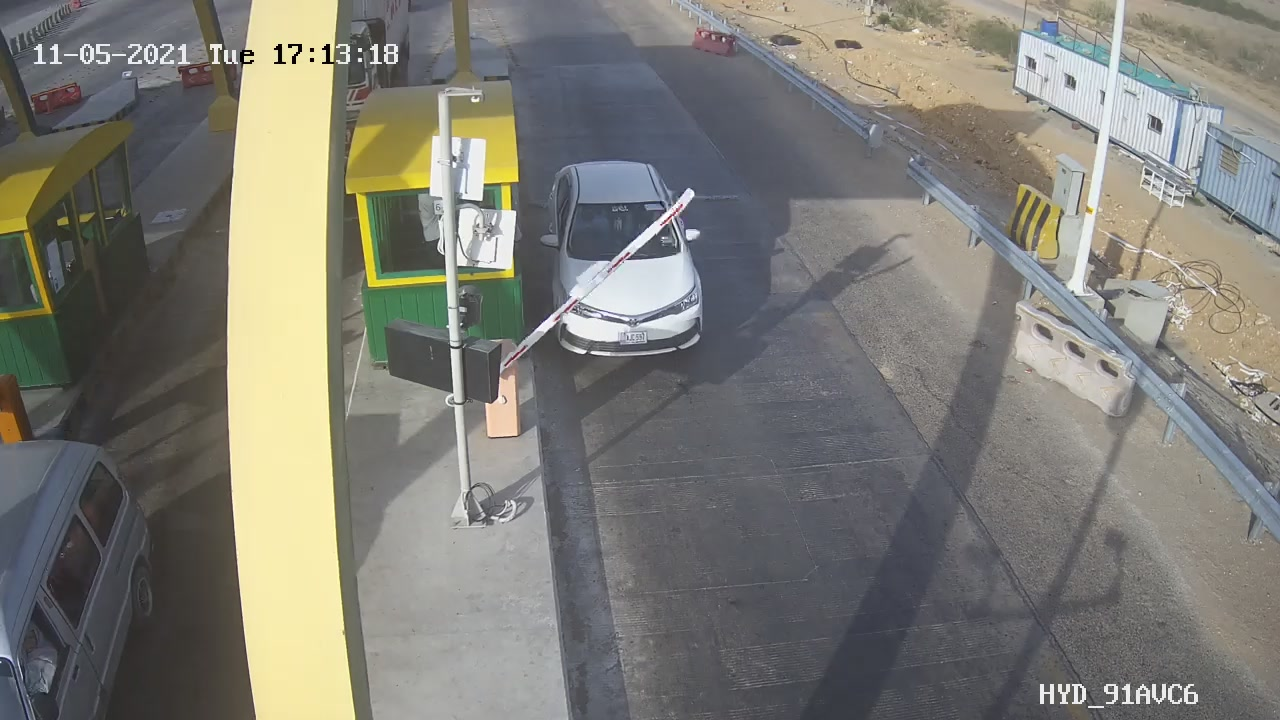F1: (525, 147, 729, 372)
